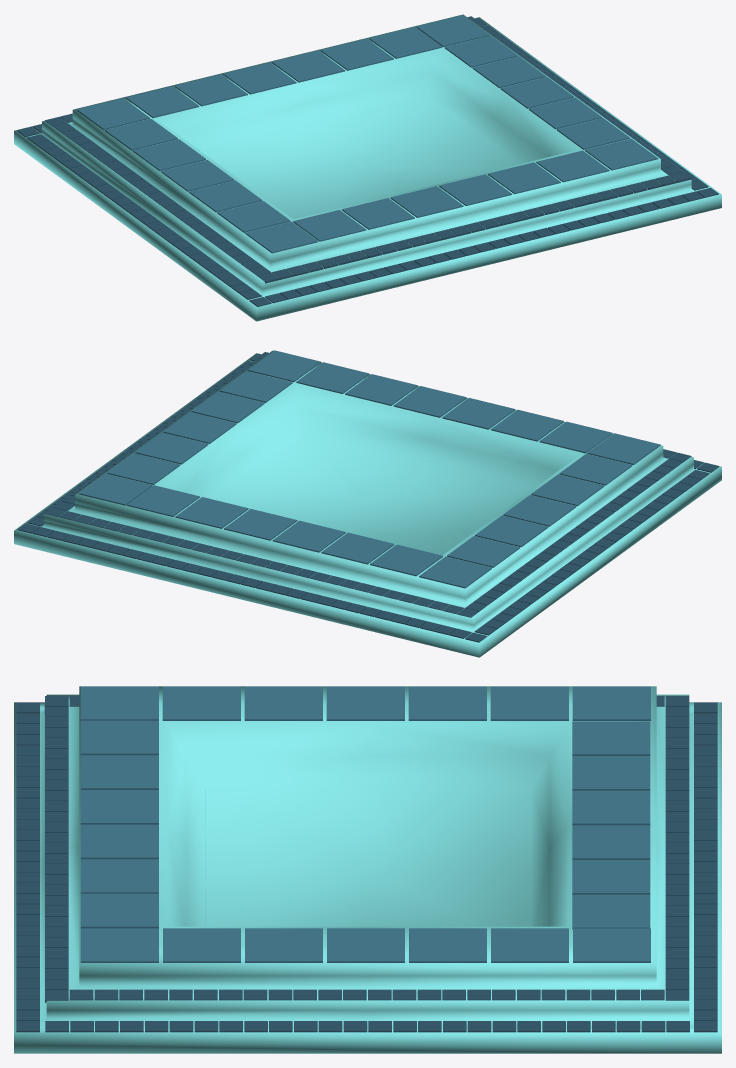
File: FountainBasin (2).fbx
3 renders of one model, top to bottom at view 1: azimuth 30°, elevation 25°; view 2: azimuth 150°, elevation 25°; view 3: azimuth 270°, elevation 25°, orthographic. The views are drawn at different scales.
Parts seen in each view (by area): view 1: Cube.003; view 2: Cube.003; view 3: Cube.003.
Boxes of the visible parts, x1,y1,x2,y2 form: Cube.003: (14,14,721,321); Cube.003: (14,350,721,657); Cube.003: (14,686,721,1053).
Size of the model in its own units: 29.86 by 2.64 by 26.94.
Materials: 1 (1 with a texture image).
